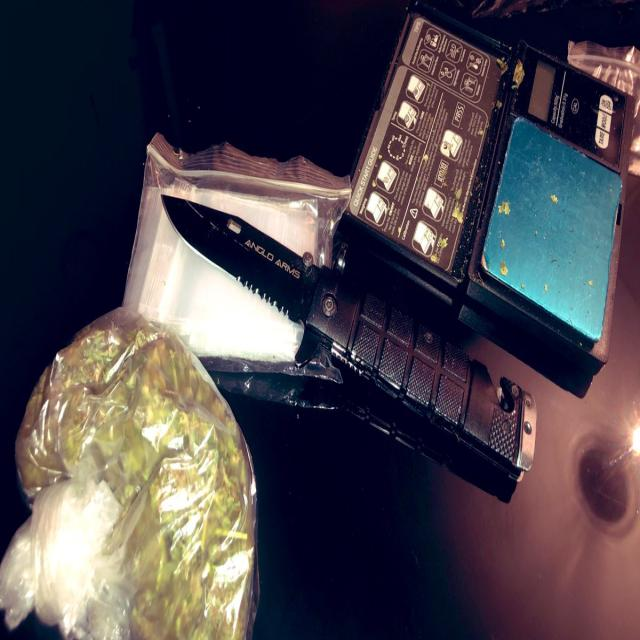Sharp-Object: (160, 190, 533, 488)
